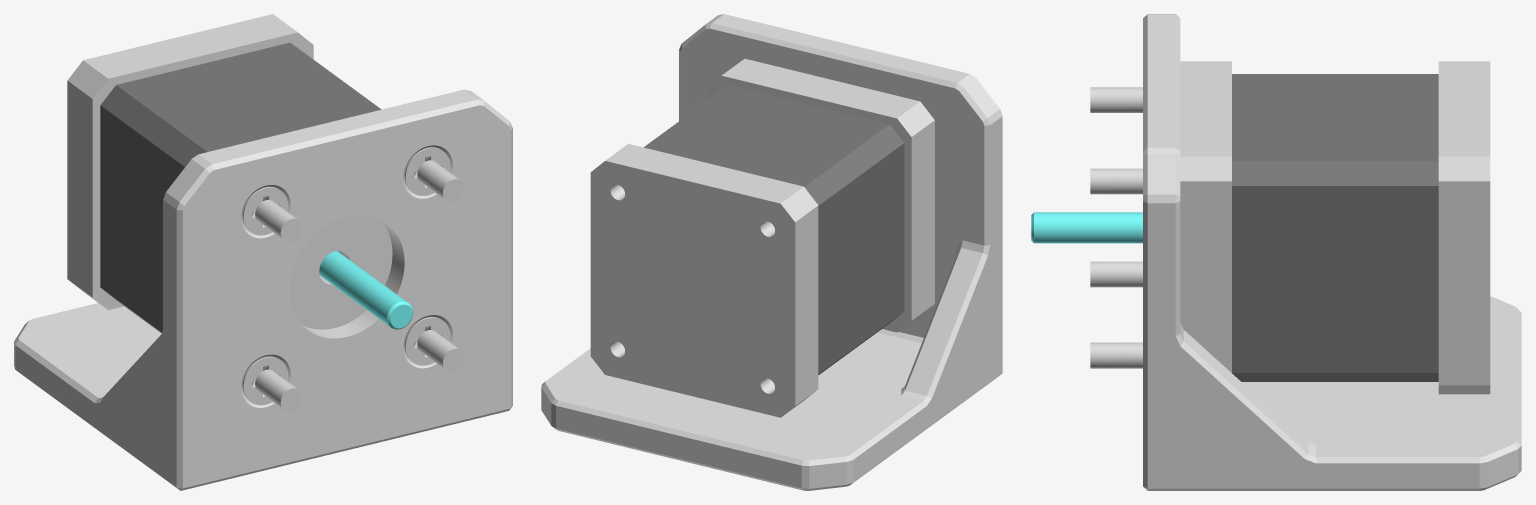
3 views of the same model, side by side, from view 1: azimuth 30°, elevation 25°; view 2: azimuth 150°, elevation 25°; view 3: azimuth 270°, elevation 25° (orthographic). The views are drawn at different scales.
Visible parts, largest first — view 1: out.mount, out.stepper.stator, out.stepper.botcap, out.stepper.topcap, out.stepper.shaft, out.screw_003, out.screw_001, out.screw_002, out.screw_000; view 2: out.mount, out.stepper.botcap, out.stepper.stator, out.stepper.topcap; view 3: out.stepper.stator, out.mount, out.stepper.botcap, out.stepper.topcap, out.stepper.shaft, out.screw_000, out.screw_003, out.screw_002, out.screw_001.
Part boxes in pixels (x1=…): out.mount: x1=14, y1=89, x2=512, y2=490; out.stepper.stator: x1=100, y1=42, x2=381, y2=333; out.stepper.botcap: x1=67, y1=14, x2=313, y2=309; out.stepper.topcap: x1=289, y1=215, x2=392, y2=329; out.stepper.shaft: x1=319, y1=251, x2=413, y2=329; out.screw_003: x1=242, y1=356, x2=302, y2=411; out.screw_001: x1=242, y1=186, x2=302, y2=241; out.screw_002: x1=404, y1=317, x2=464, y2=372; out.screw_000: x1=404, y1=147, x2=464, y2=202; out.mount: x1=541, y1=14, x2=1002, y2=490; out.stepper.botcap: x1=590, y1=144, x2=818, y2=417; out.stepper.stator: x1=643, y1=85, x2=904, y2=375; out.stepper.topcap: x1=707, y1=58, x2=934, y2=332; out.stepper.stator: x1=1232, y1=74, x2=1438, y2=381; out.mount: x1=1143, y1=14, x2=1521, y2=490; out.stepper.botcap: x1=1438, y1=61, x2=1490, y2=394; out.stepper.topcap: x1=1180, y1=61, x2=1231, y2=372; out.stepper.shaft: x1=1031, y1=212, x2=1142, y2=243; out.screw_000: x1=1090, y1=168, x2=1142, y2=194; out.screw_003: x1=1090, y1=261, x2=1142, y2=287; out.screw_002: x1=1090, y1=342, x2=1142, y2=368; out.screw_001: x1=1090, y1=87, x2=1142, y2=112.
Size of the model in its own units: 0.0643 by 0.0583 by 0.079.
